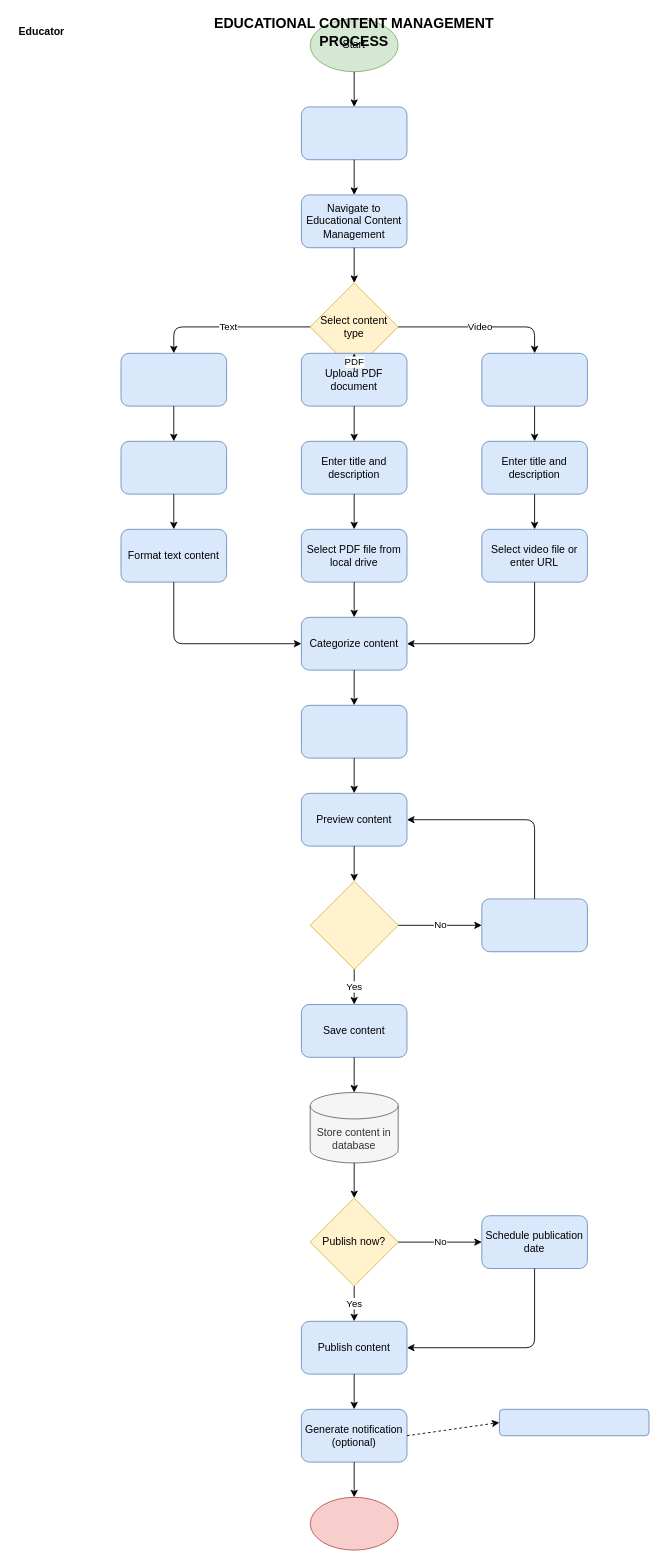
The diagram is 664 pixels wide and 1566 high, and some of its shapes have lost their labels. Each missing label, with the centre of its shape:
"Content ready?" belongs at point 353,924.
"Create text content" belongs at point 173,379.
"Edit content" belongs at point 534,925.
"Educator logs in" belongs at point 354,133.
"End" belongs at point 353,1523.
"Enter title, description, and content text" belongs at point 173,467.
"Set metadata and tags" belongs at point 354,731.
"To User Educational Content Access" belongs at point 574,1422.
"Upload video content" belongs at point 534,379.
